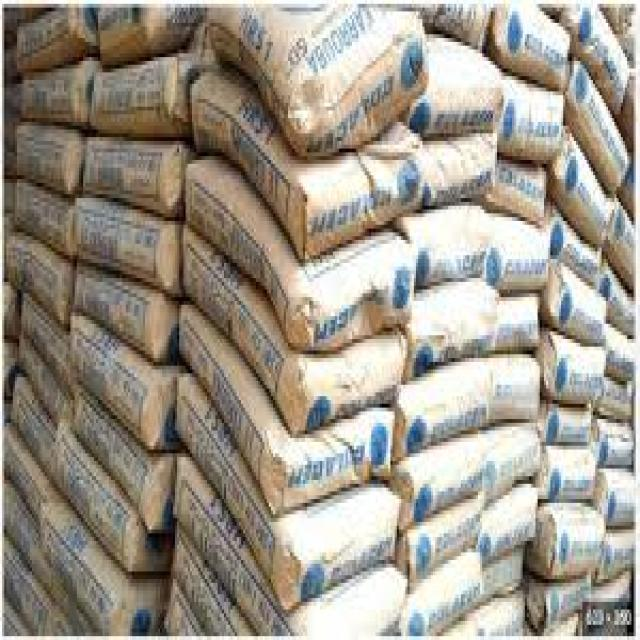cement_bag: (175, 312, 394, 510), (176, 464, 408, 640), (196, 86, 432, 259), (186, 171, 411, 350), (222, 21, 425, 159), (50, 436, 142, 568), (67, 389, 156, 522), (38, 512, 128, 634), (399, 360, 489, 465), (73, 324, 150, 440), (82, 141, 183, 219), (416, 284, 496, 379), (78, 204, 163, 290), (412, 497, 485, 592), (555, 131, 613, 250), (497, 2, 570, 93), (407, 446, 486, 528), (73, 272, 153, 352), (91, 59, 182, 126), (417, 208, 487, 293), (12, 379, 61, 480), (423, 76, 501, 137), (504, 87, 568, 161), (489, 419, 543, 502), (553, 267, 609, 347), (483, 158, 547, 225), (548, 512, 606, 585), (16, 175, 69, 253), (484, 486, 535, 566), (23, 61, 89, 122), (23, 303, 67, 394), (18, 126, 74, 192), (553, 343, 608, 410), (496, 232, 548, 295), (548, 450, 597, 507)
